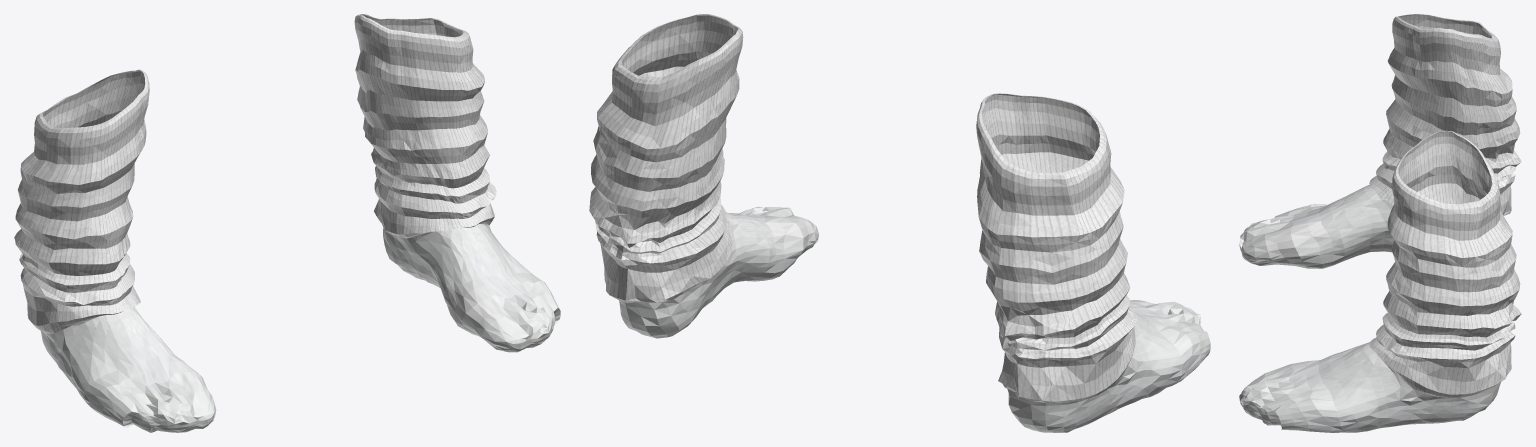
File: mhw_toigo_leg_warmer_socks.glb
3 renders of one model, left to right at view 1: azimuth 30°, elevation 25°; view 2: azimuth 150°, elevation 25°; view 3: azimuth 270°, elevation 25°, orthographic. The views are drawn at different scales.
Visible parts, largest first — view 1: mhw_toigo_leg_warmer_socks; view 2: mhw_toigo_leg_warmer_socks; view 3: mhw_toigo_leg_warmer_socks.
Part boxes in pixels (bbox=[...]): mhw_toigo_leg_warmer_socks: bbox=[14, 14, 560, 432]; mhw_toigo_leg_warmer_socks: bbox=[589, 14, 1210, 432]; mhw_toigo_leg_warmer_socks: bbox=[1239, 14, 1521, 432].
Bounding box in the file's own units: 0.544 × 0.3172 × 0.3131.
1 material, 1 textured.
